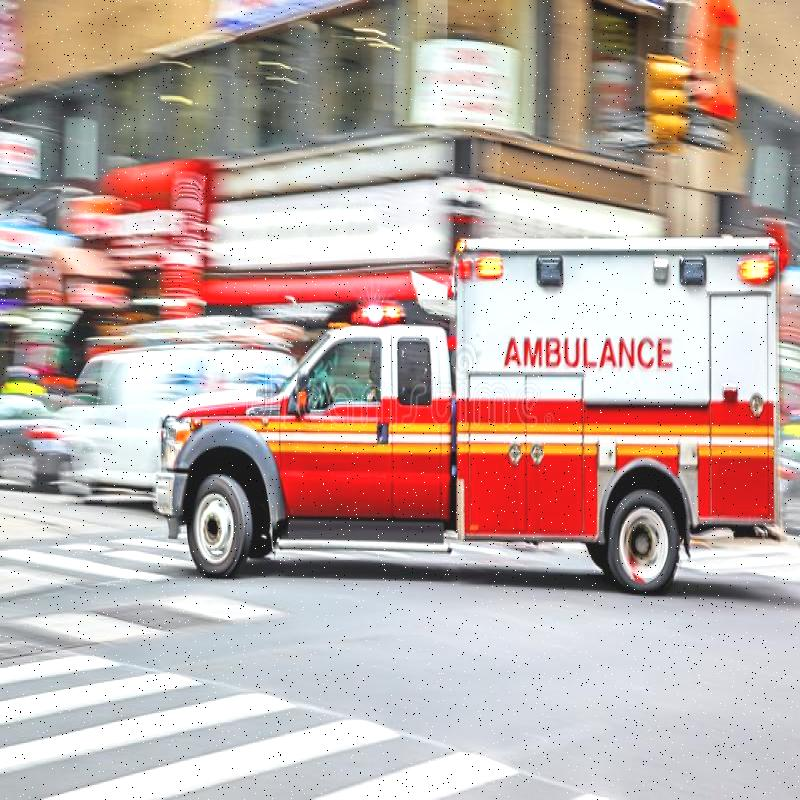ambulance: (129, 211, 781, 590)
